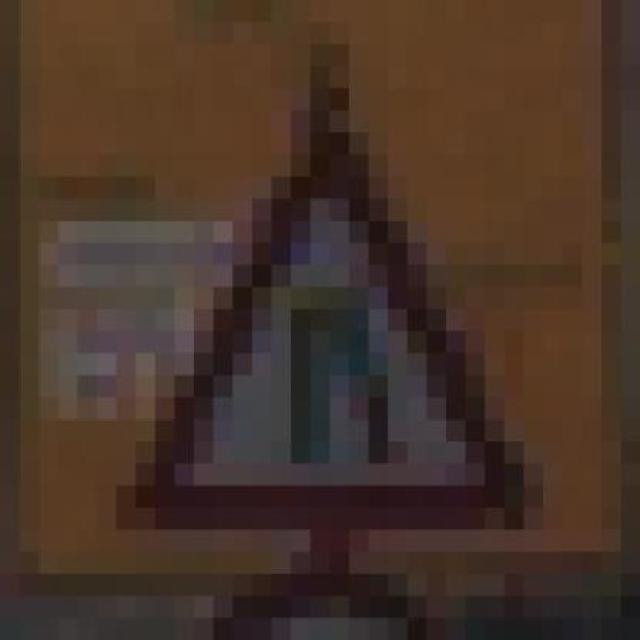-Road narrows on right: (116, 66, 544, 552)
